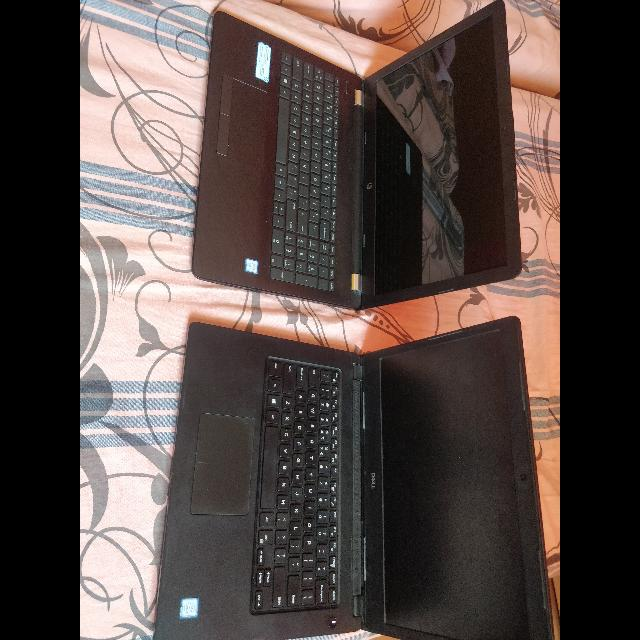Laptop: (136, 312, 560, 638), (177, 1, 539, 310)
